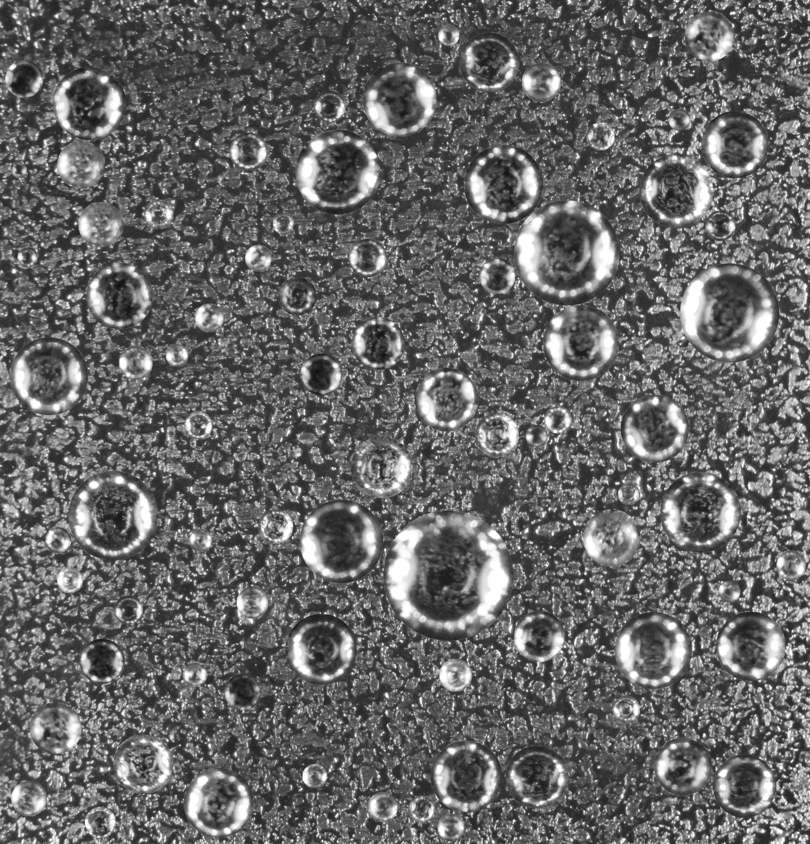Bubble: (383, 510, 513, 640), (514, 200, 619, 305), (680, 263, 779, 362), (68, 470, 157, 560), (295, 129, 380, 214), (299, 499, 383, 583), (660, 472, 740, 552), (464, 144, 543, 223), (10, 337, 87, 415), (615, 612, 691, 688), (543, 305, 619, 380), (362, 62, 436, 136), (639, 154, 713, 227), (52, 66, 125, 139), (430, 740, 502, 812), (285, 614, 356, 684), (183, 768, 253, 837), (716, 611, 785, 681), (620, 394, 688, 462), (701, 111, 768, 178), (86, 262, 152, 329), (414, 367, 478, 431), (713, 754, 776, 817), (505, 745, 568, 808), (350, 436, 412, 498), (459, 32, 519, 92), (113, 734, 172, 794), (654, 737, 711, 795), (583, 509, 640, 566), (351, 317, 404, 369), (29, 702, 81, 754), (514, 611, 564, 661), (684, 11, 734, 61), (57, 140, 104, 188), (78, 202, 123, 247), (79, 638, 124, 683), (475, 413, 518, 456), (300, 353, 342, 395), (521, 62, 560, 101), (348, 238, 387, 277), (278, 277, 316, 315), (229, 132, 267, 170), (5, 60, 42, 97), (479, 257, 515, 293), (224, 674, 260, 710), (258, 509, 293, 544), (11, 781, 46, 816), (118, 345, 152, 379), (439, 659, 471, 691), (313, 90, 345, 122), (236, 587, 268, 618), (84, 807, 115, 838), (776, 550, 806, 580), (705, 210, 735, 240), (143, 199, 173, 229), (367, 792, 397, 822), (114, 595, 142, 624), (195, 303, 223, 332), (586, 122, 614, 150), (184, 411, 212, 439), (612, 696, 640, 723), (437, 814, 464, 841), (544, 406, 571, 433), (245, 244, 271, 271), (408, 795, 434, 822), (45, 527, 71, 553), (57, 567, 82, 593), (302, 764, 326, 788), (182, 662, 206, 686), (165, 343, 188, 366), (189, 529, 212, 552), (718, 580, 740, 602), (525, 424, 547, 446), (668, 108, 690, 130), (618, 483, 639, 505), (272, 213, 293, 234), (438, 24, 459, 45), (17, 247, 37, 267), (11, 162, 26, 177), (189, 95, 199, 105)
